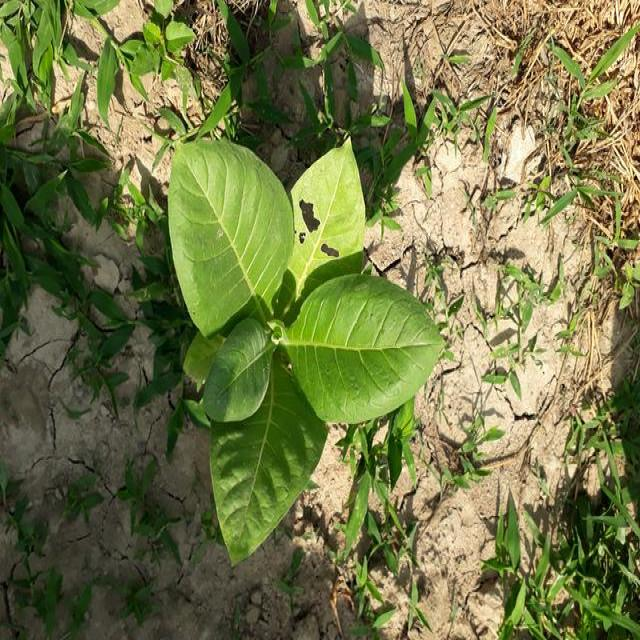crop: (165, 129, 447, 563)
